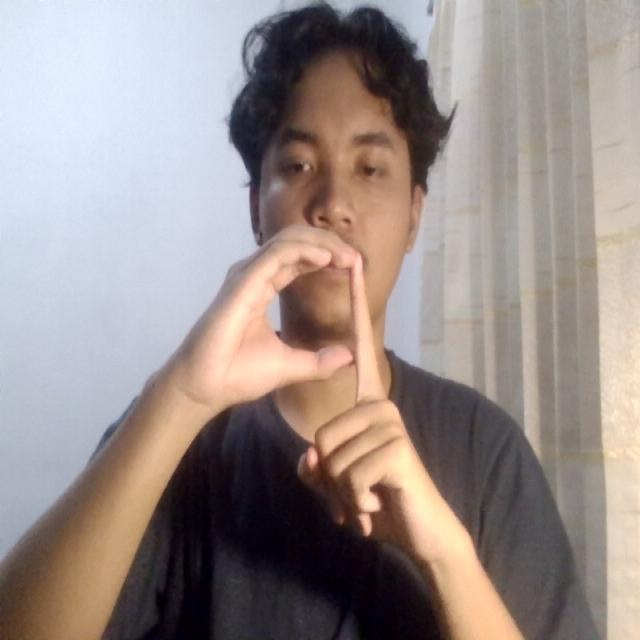D: (200, 209, 441, 567)
